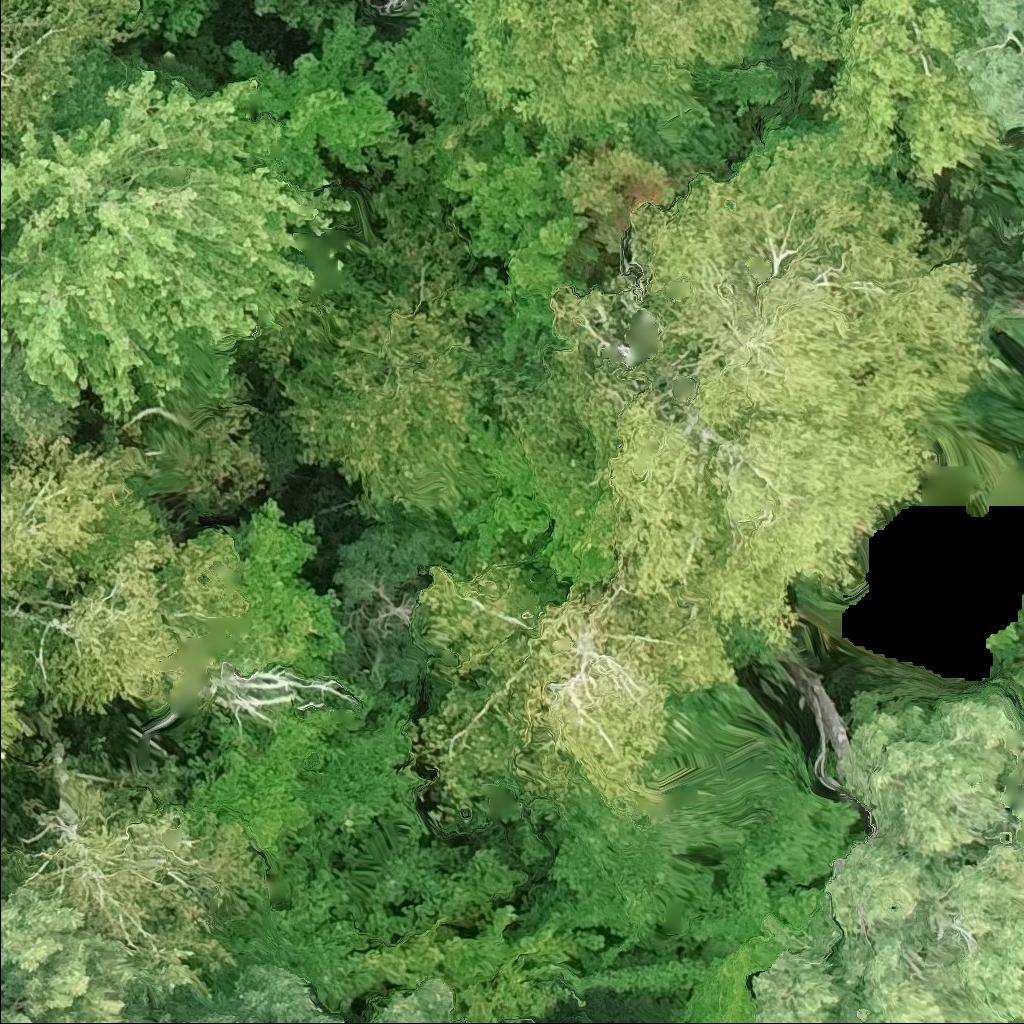crown: (0, 64, 355, 426), (34, 520, 253, 716), (220, 2, 409, 186), (0, 872, 199, 1023), (0, 429, 161, 607), (0, 0, 139, 148), (0, 369, 76, 465), (0, 612, 36, 769)
